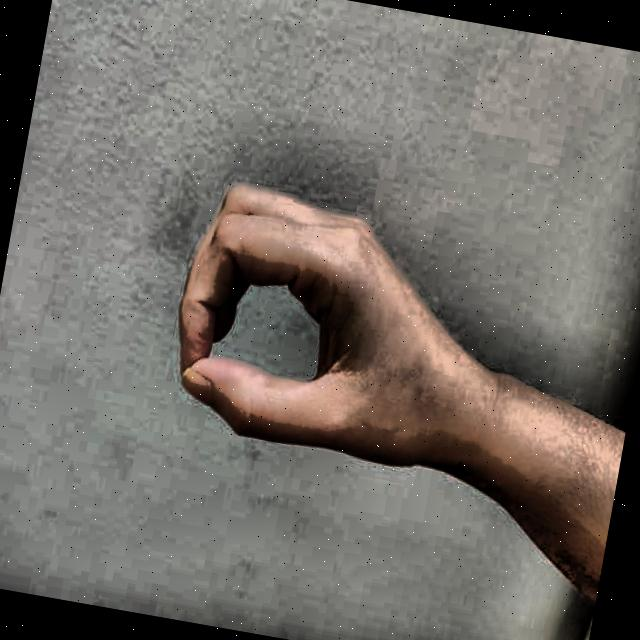O: (136, 144, 500, 514)
